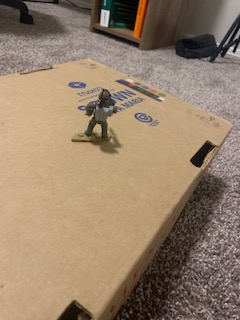soldier: (82, 85, 120, 146)
